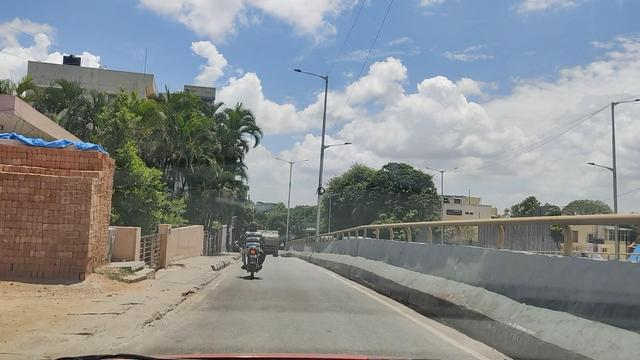LMV: (232, 221, 268, 286)
RoadDamages: (154, 284, 202, 320)
